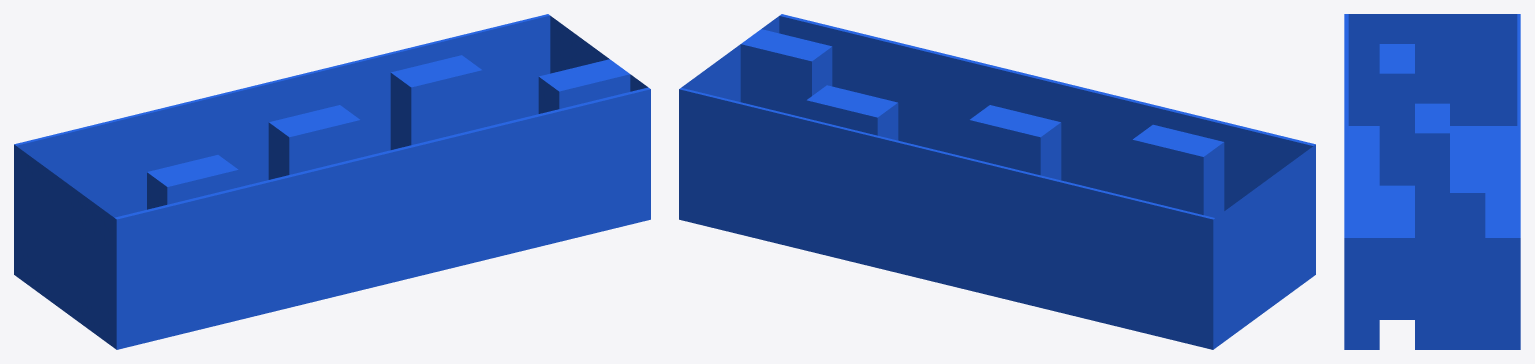
The model's file is Islands.fbx.
3 views of the same model, side by side, from view 1: azimuth 30°, elevation 25°; view 2: azimuth 150°, elevation 25°; view 3: azimuth 270°, elevation 25° (orthographic). The views are drawn at different scales.
Parts seen in each view (by area): view 1: Box002; view 2: Box002; view 3: Box002.
Boxes of the visible parts, <box> form: Box002: <box>14,14,650,349</box>; Box002: <box>679,14,1315,349</box>; Box002: <box>1344,14,1520,349</box>.
Bounding box in the file's own units: 709 × 165 × 236.
